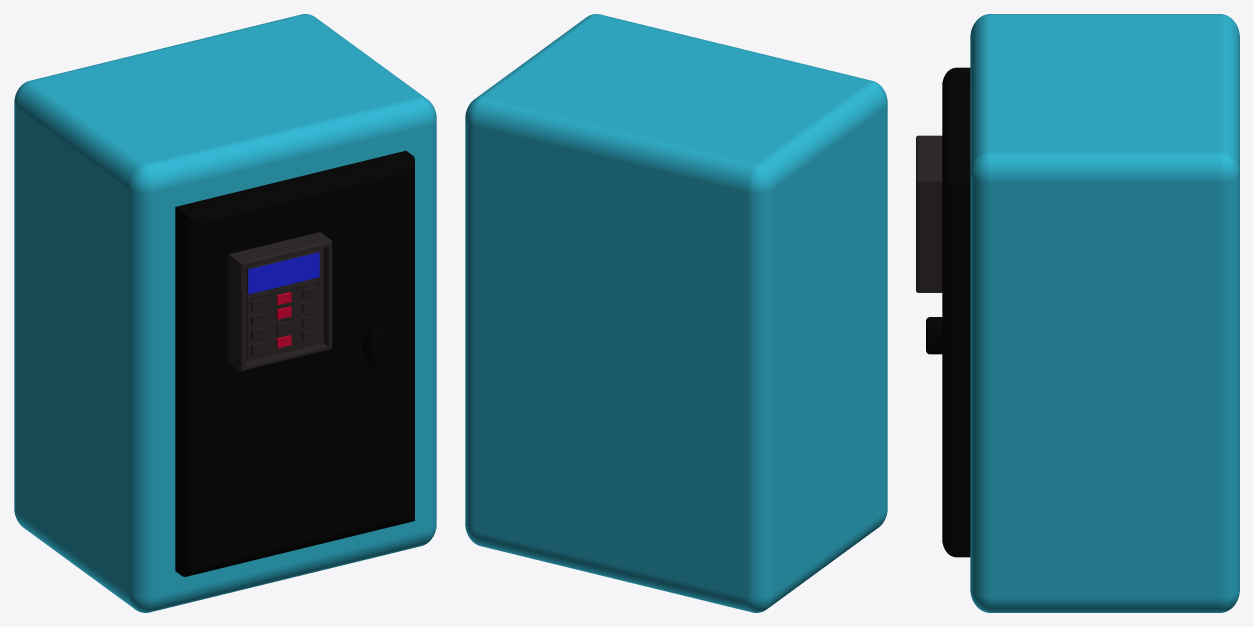
File: puzzle_safe.fbx
The picture shows the model from 3 angles, left to right: view 1: azimuth 30°, elevation 25°; view 2: azimuth 150°, elevation 25°; view 3: azimuth 270°, elevation 25°; orthographic projection. The views are drawn at different scales.
Visible parts, largest first — view 1: safe, safe_door, numpad, display, door_knob; view 2: safe; view 3: safe, safe_door, numpad, door_knob.
Boxes of the visible parts, x1,y1,x2,y2 form: safe: (14,14,436,612); safe_door: (175,150,414,576); numpad: (228,232,332,371); display: (248,252,319,294); door_knob: (362,327,385,367); safe: (465,14,887,612); safe: (970,14,1239,612); safe_door: (942,67,970,557); numpad: (916,135,942,292); door_knob: (926,317,942,354).
Size of the model in its own units: 180 by 252 by 161.
